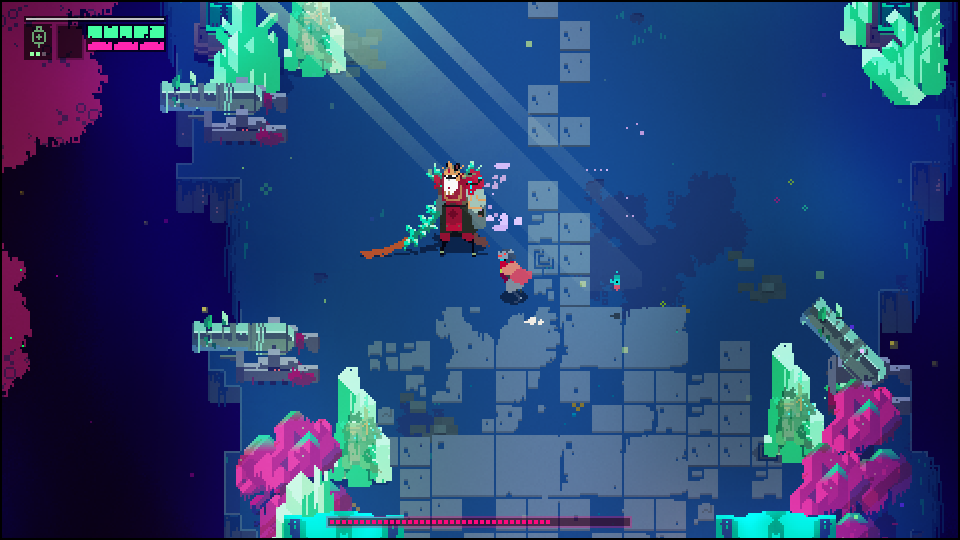hanged_man: (398, 160, 492, 261)
player: (496, 249, 531, 306)
